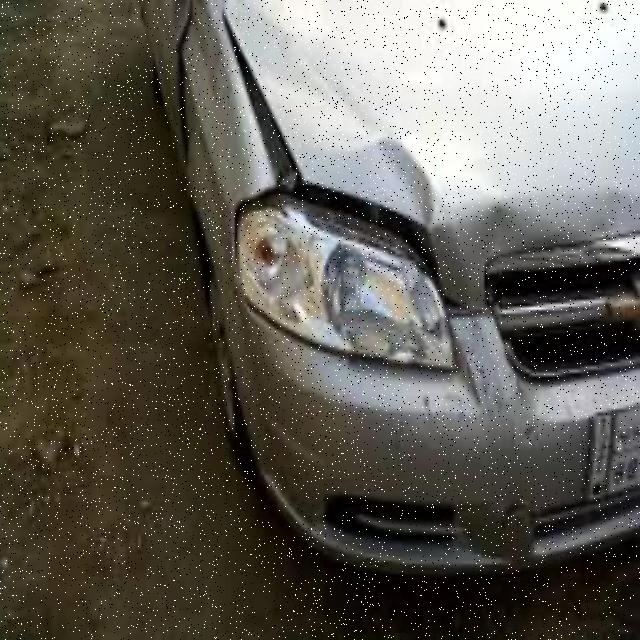damage: (460, 182, 639, 264), (376, 138, 433, 226)
